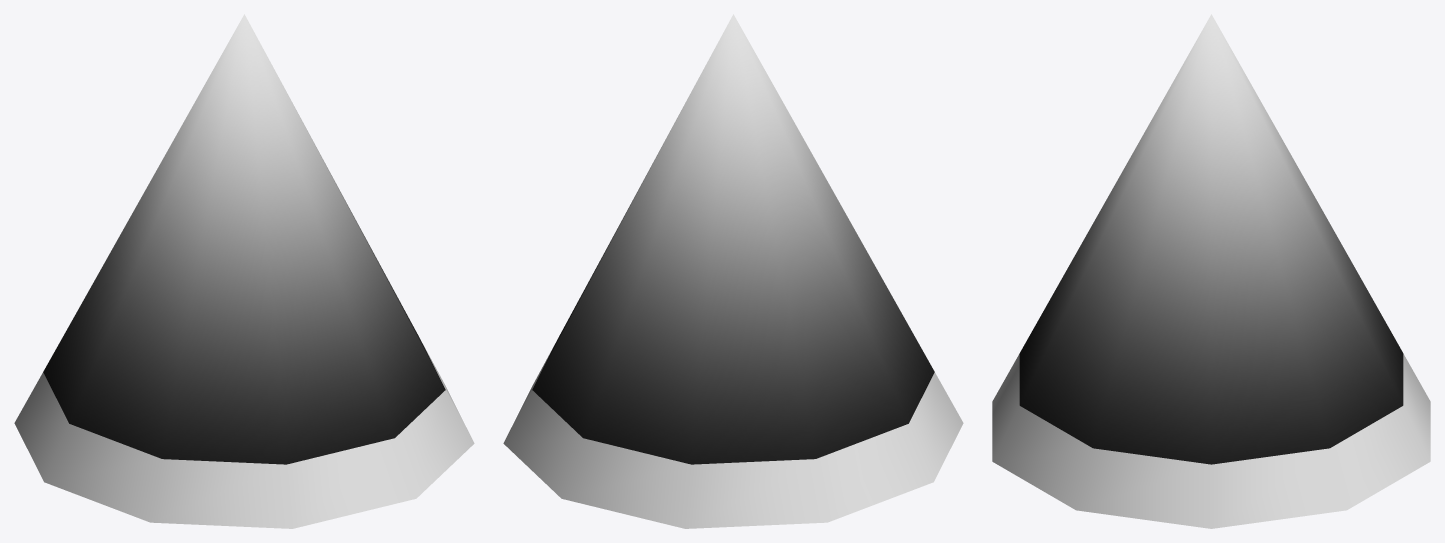
Rendered from Spike.fbx.
The picture shows the model from 3 angles, left to right: view 1: azimuth 30°, elevation 25°; view 2: azimuth 150°, elevation 25°; view 3: azimuth 270°, elevation 25°; orthographic projection.
Parts seen in each view (by area): view 1: Spike; view 2: Spike; view 3: Spike.
Part boxes in pixels (bbox=[...]): Spike: bbox=[14, 14, 474, 528]; Spike: bbox=[503, 14, 963, 528]; Spike: bbox=[992, 14, 1430, 528].
Bounding box in the file's own units: 64 × 64 × 60.87.
2 materials, 1 textured.
